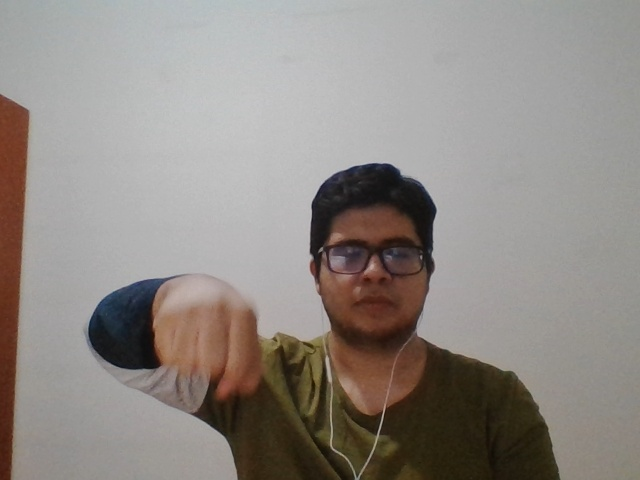Yes: (141, 267, 275, 403)
